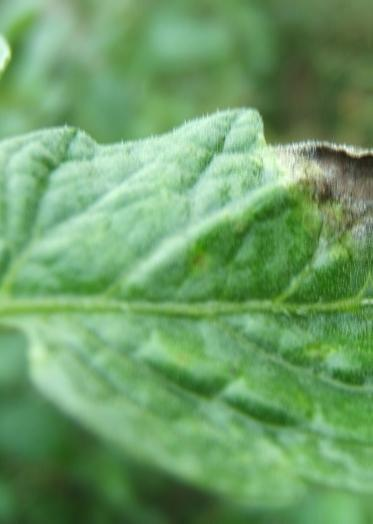Tomato leaf late blight: (0, 87, 373, 514)
